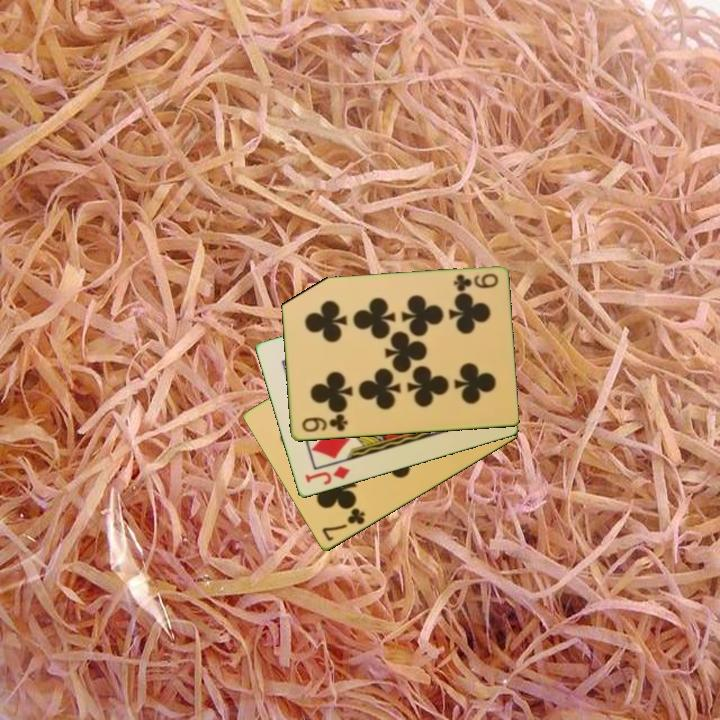7c: (318, 505, 368, 545)
9c: (298, 412, 350, 436), (449, 270, 500, 294)
Jd: (301, 462, 353, 488)
